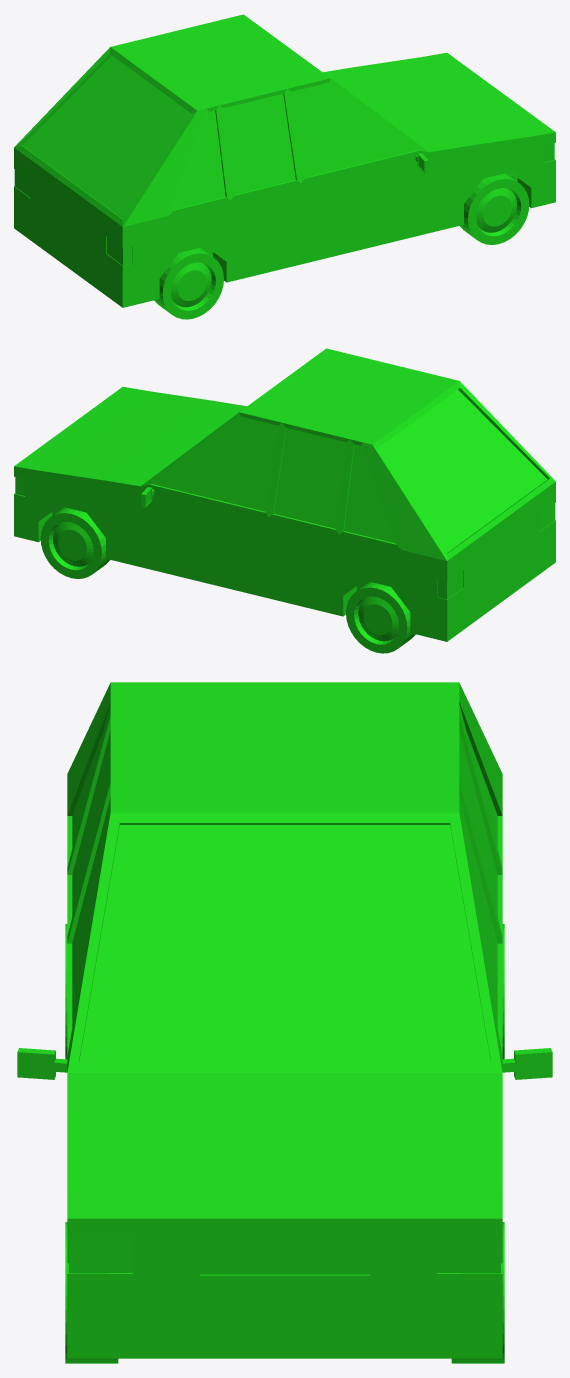
File: frame15.obj
The picture shows the model from 3 angles, top to bottom: view 1: azimuth 30°, elevation 25°; view 2: azimuth 150°, elevation 25°; view 3: azimuth 270°, elevation 25°; orthographic projection. The views are drawn at different scales.
Parts seen in each view (by area): view 1: Car1_Cube.001; view 2: Car1_Cube.001; view 3: Car1_Cube.001.
Part boxes in pixels (left/top/right/bottom): Car1_Cube.001: left=14, top=14, right=555, bottom=319; Car1_Cube.001: left=14, top=348, right=555, bottom=653; Car1_Cube.001: left=17, top=682, right=552, bottom=1363.
Size of the model in its own units: 4.6 by 1.99 by 2.46.
